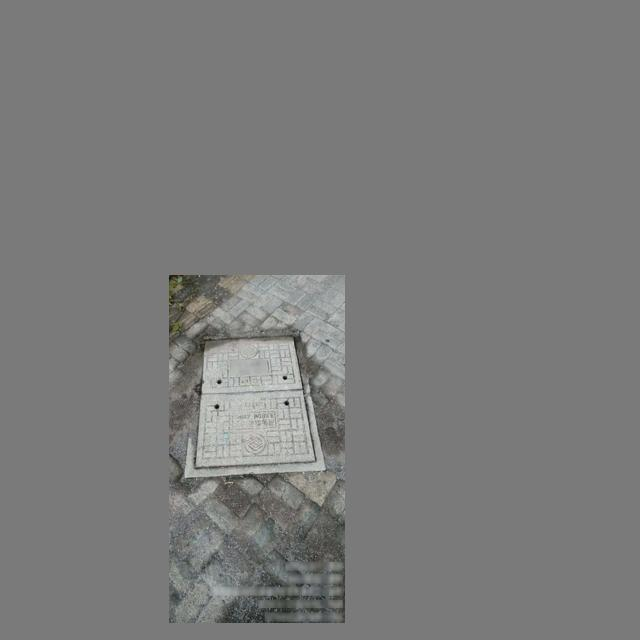good: (185, 328, 326, 478)
